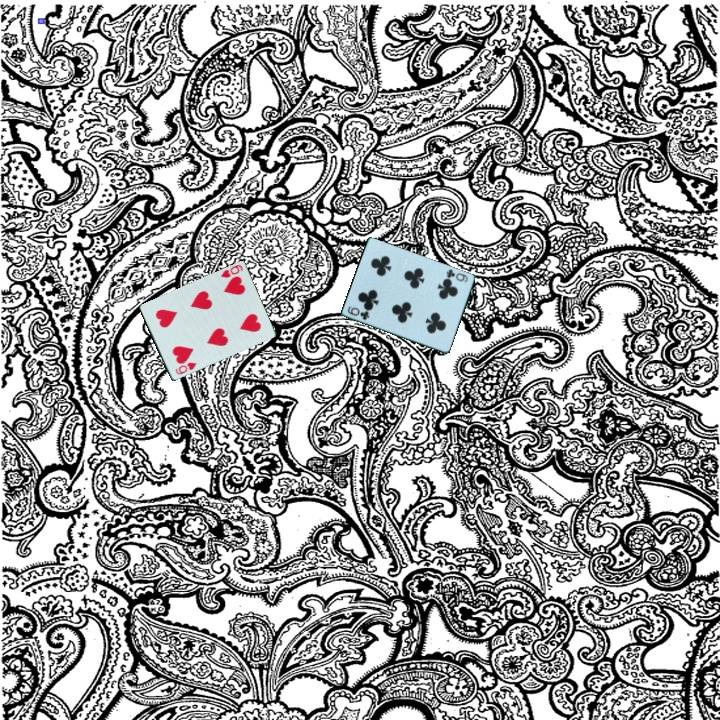6c: (344, 303, 372, 323), (443, 266, 471, 285)
6h: (217, 261, 245, 281), (172, 359, 200, 378)
